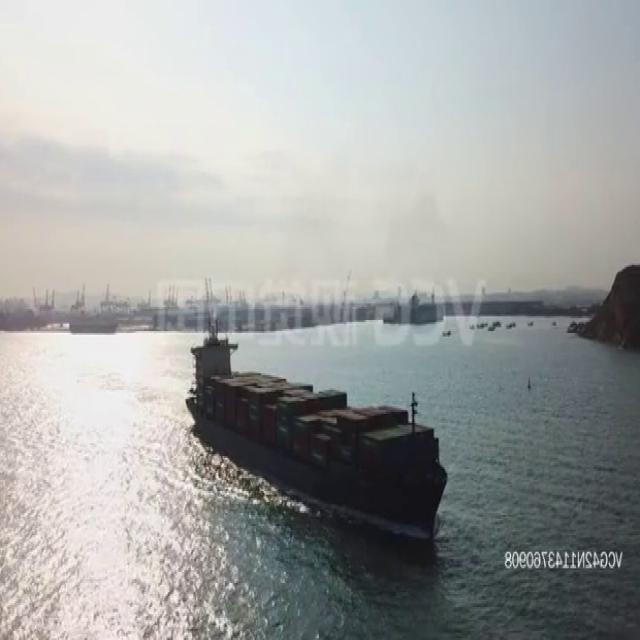cargoship: (182, 328, 451, 538)
